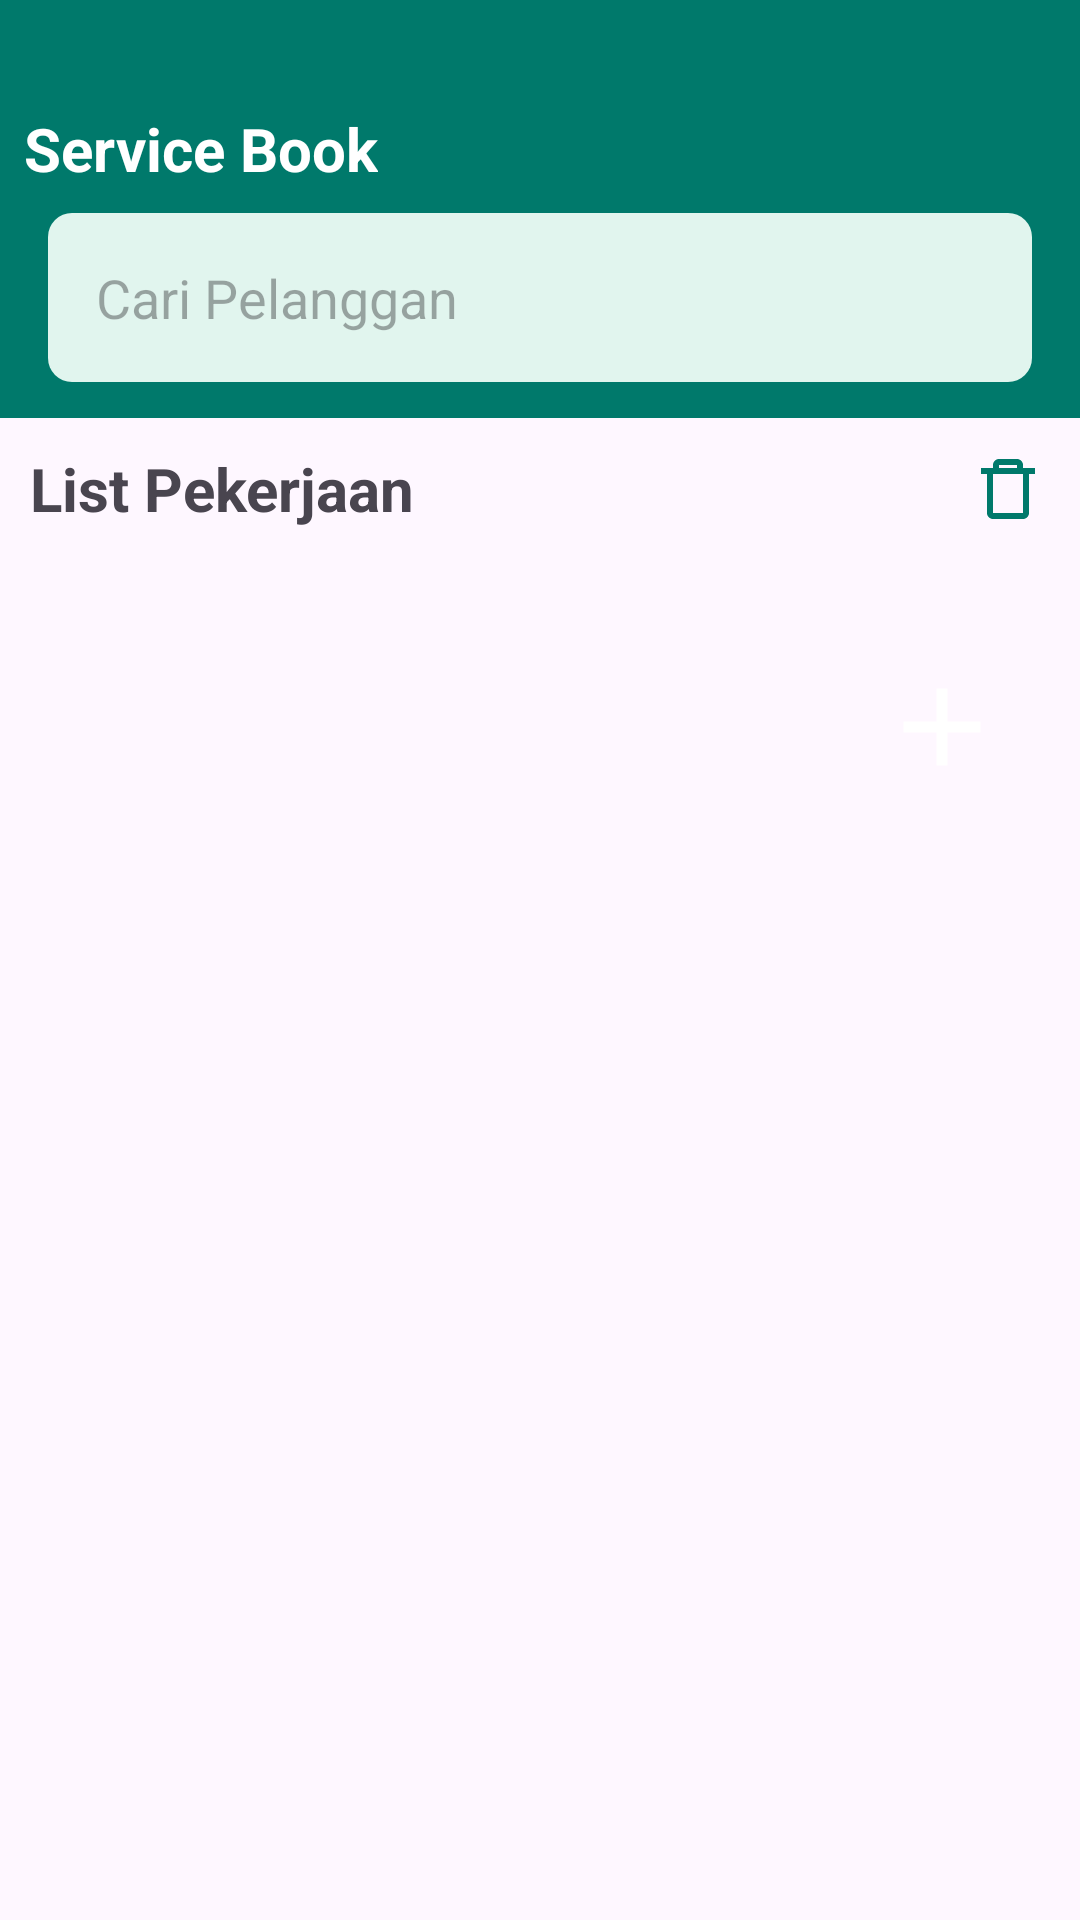

Named icons in this screenshot (1080×1920) and their bounding boxes, (x1=x1, y1=y1, x2=x2, y2=y2):
trash: (x1=981, y1=459, x2=1035, y2=519)
